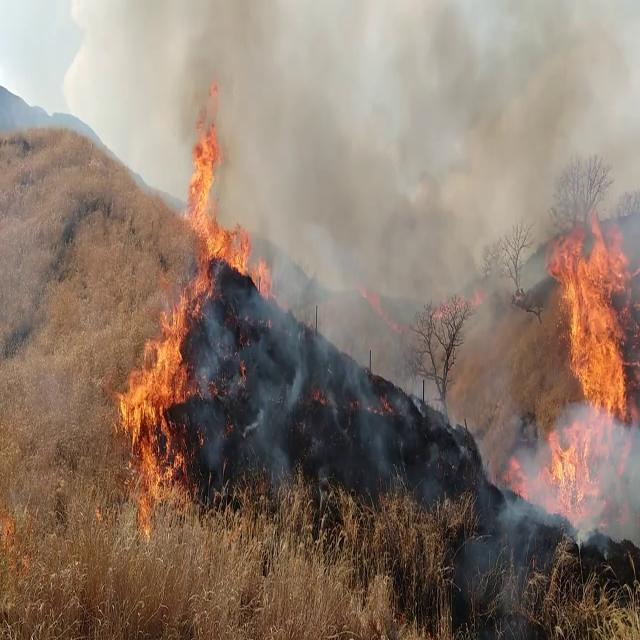Fire: (544, 203, 640, 481), (116, 284, 194, 516), (181, 101, 266, 306)
Smoke: (204, 0, 598, 393), (474, 371, 640, 601)
